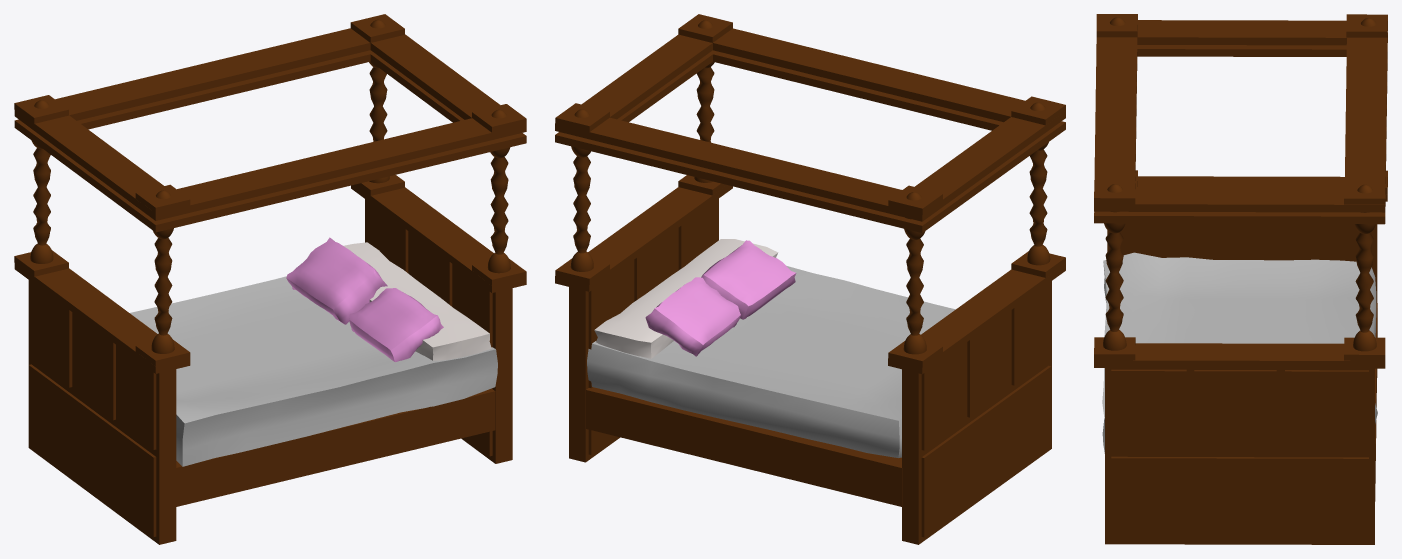
File: model_Historical_Bed.fbx
3 views of the same model, side by side, from view 1: azimuth 30°, elevation 25°; view 2: azimuth 150°, elevation 25°; view 3: azimuth 270°, elevation 25° (orthographic). The views are drawn at different scales.
Visible parts, largest first — view 1: pasted__polySurface220; view 2: pasted__polySurface220; view 3: pasted__polySurface220.
Boxes of the visible parts, bbox=[...] form: pasted__polySurface220: bbox=[14, 14, 526, 544]; pasted__polySurface220: bbox=[555, 14, 1065, 544]; pasted__polySurface220: bbox=[1094, 14, 1387, 544].
Size of the model in its own units: 1803 by 1616 by 1211.
